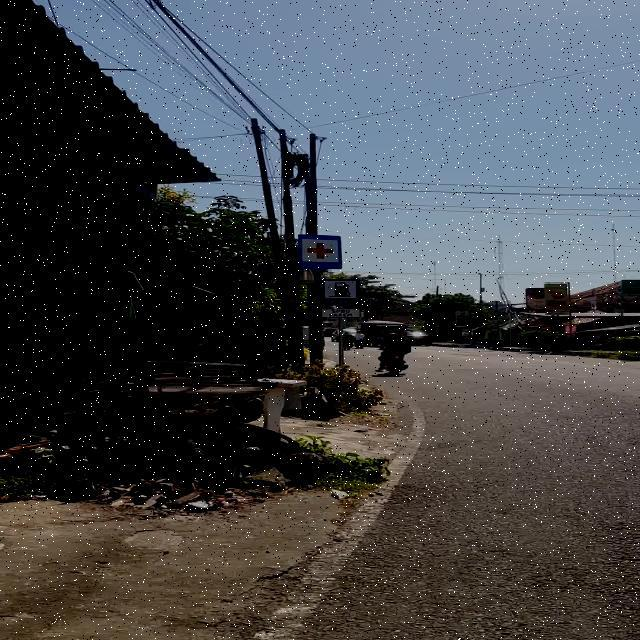Balai Pertolongan Pertama: (298, 234, 342, 269)
